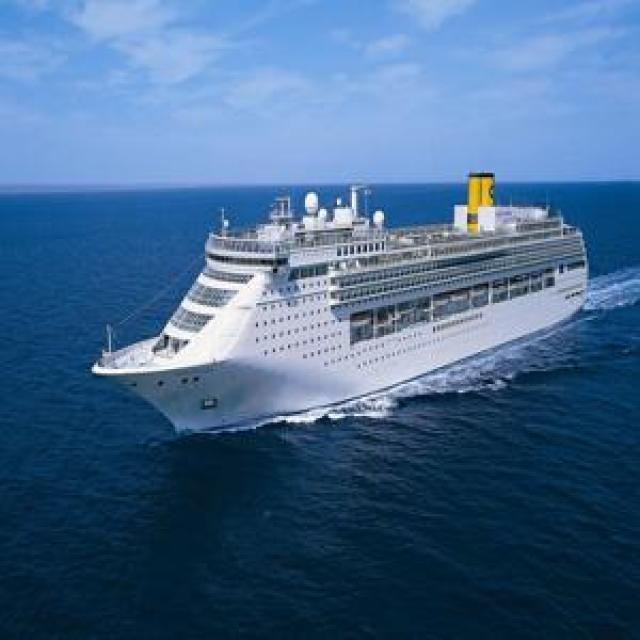passenger ship: (91, 153, 598, 454)
